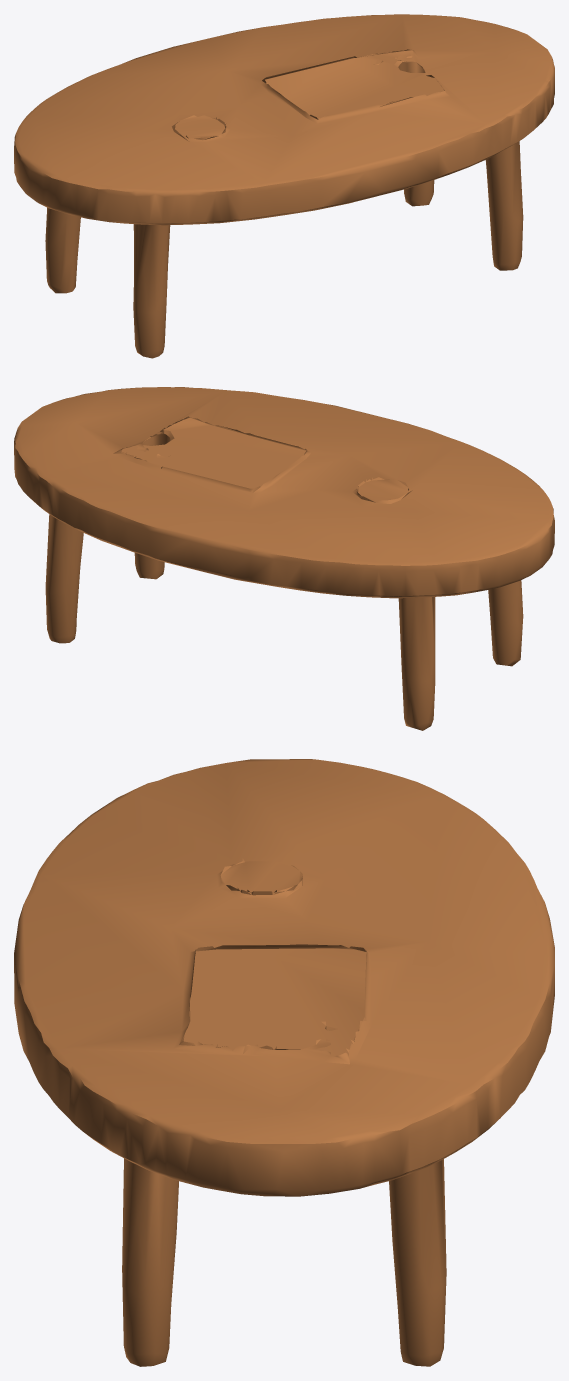
File: coffeeTable.glb
3 renders of one model, top to bottom at view 1: azimuth 30°, elevation 25°; view 2: azimuth 150°, elevation 25°; view 3: azimuth 270°, elevation 25°, orthographic. The views are drawn at different scales.
Visible parts, largest first — view 1: coffeeTable_wood; view 2: coffeeTable_wood; view 3: coffeeTable_wood.
Part boxes in pixels (<box>): coffeeTable_wood: <box>14,14,554,358</box>; coffeeTable_wood: <box>14,387,554,730</box>; coffeeTable_wood: <box>14,759,554,1366</box>.
Size of the model in its own units: 1.7 by 0.573 by 0.9994.
